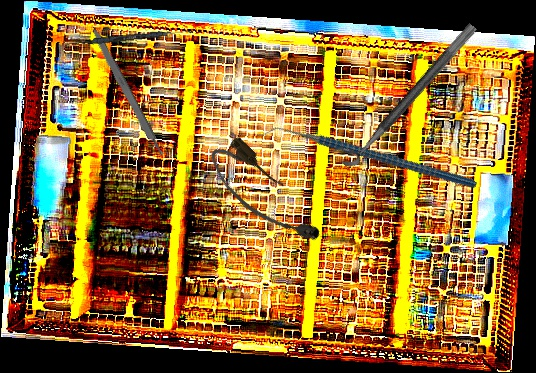Cannula: (201, 130, 329, 261)
Chopper: (258, 64, 478, 254)
Fixation Ring: (330, 11, 479, 172)
Scalpel Handle: (88, 25, 165, 159)
Spatula Surgical: (67, 26, 193, 49)
